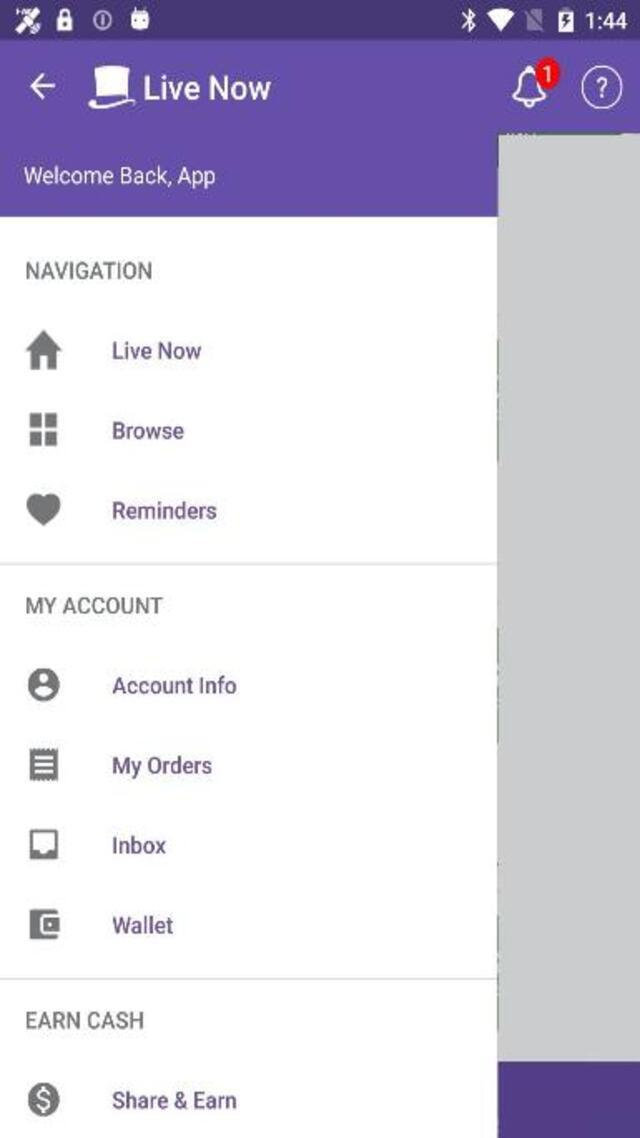Icon: (512, 56, 562, 108), (580, 64, 624, 110), (24, 328, 62, 369), (26, 492, 60, 526), (27, 666, 59, 702), (27, 1082, 59, 1116), (28, 746, 58, 782), (29, 908, 61, 941), (29, 411, 57, 446), (28, 828, 58, 860), (29, 72, 56, 99)
Image: (88, 65, 135, 109)
Text: (21, 162, 215, 190), (144, 73, 272, 101), (26, 594, 164, 614), (24, 260, 152, 281), (112, 674, 237, 695), (113, 754, 213, 779), (112, 1089, 237, 1109), (23, 1009, 143, 1029), (112, 498, 217, 519), (113, 341, 203, 360), (112, 421, 184, 440), (112, 914, 174, 935), (112, 834, 167, 854)
